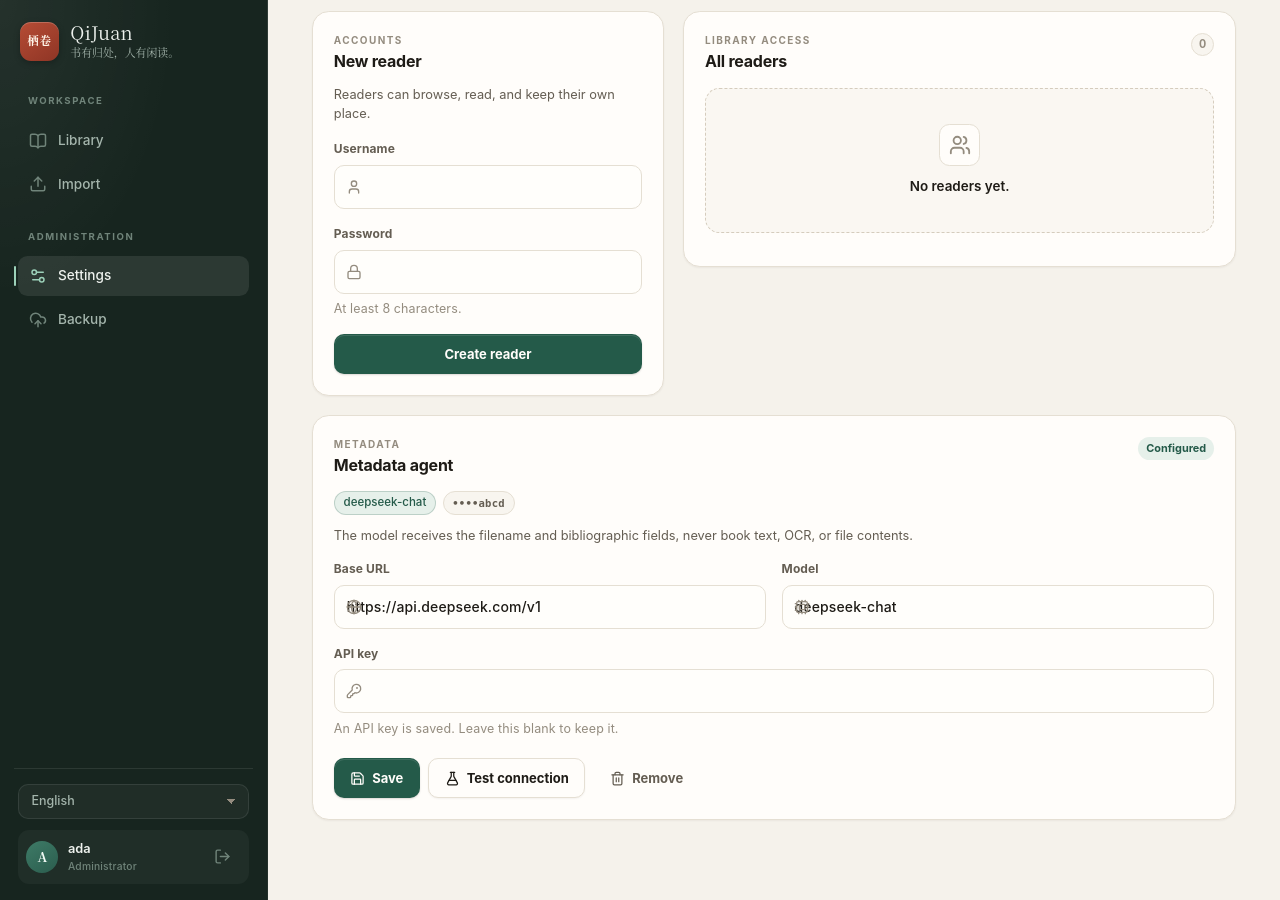
it: settings metadata agent › shows a localized error when the connection test fails
(page scrolled)
Click the button "Test connection": [507, 778] box left=428, top=758, right=585, bottom=798
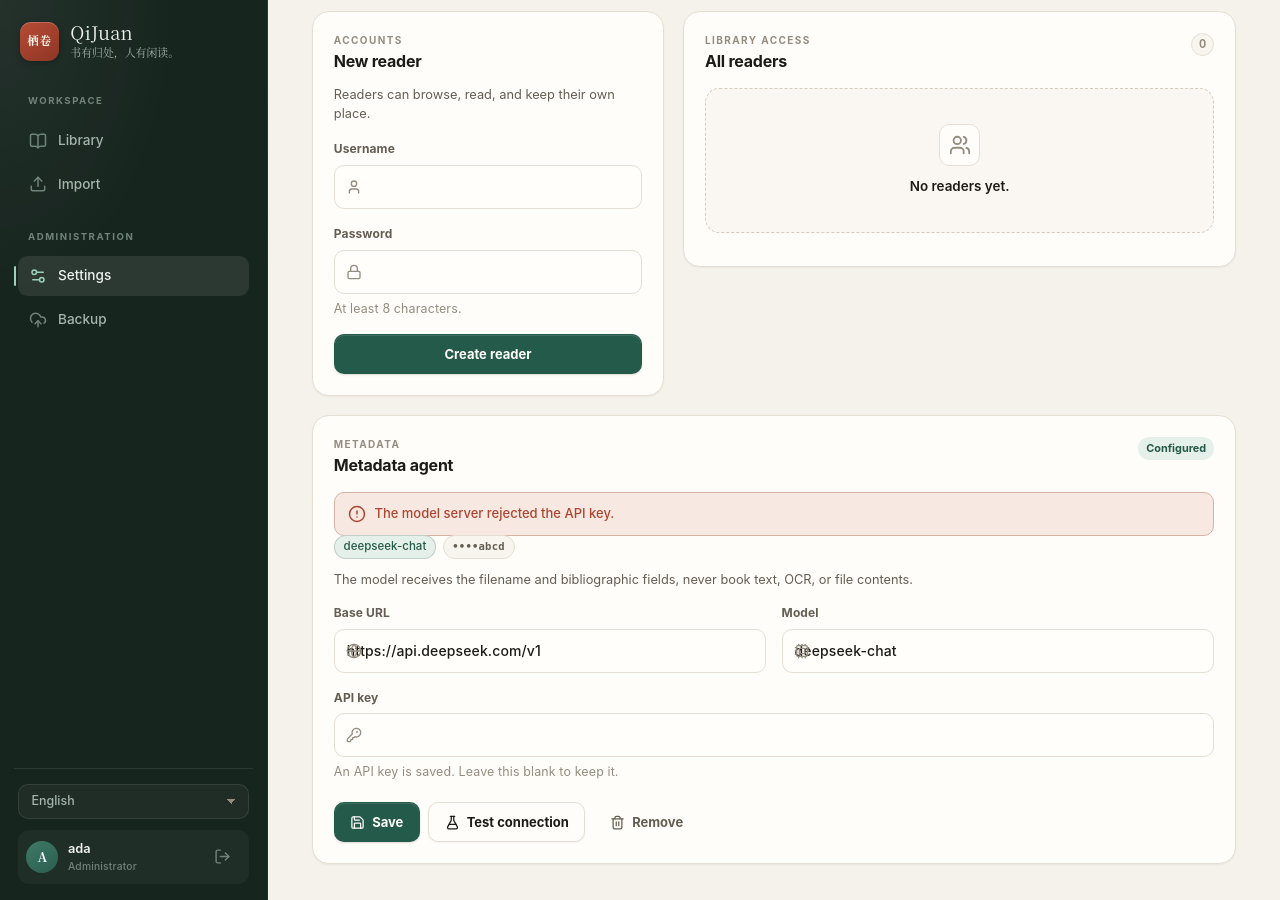
expect the message reads "The model server rejected the API key.": met, box left=374, top=506, right=614, bottom=522
